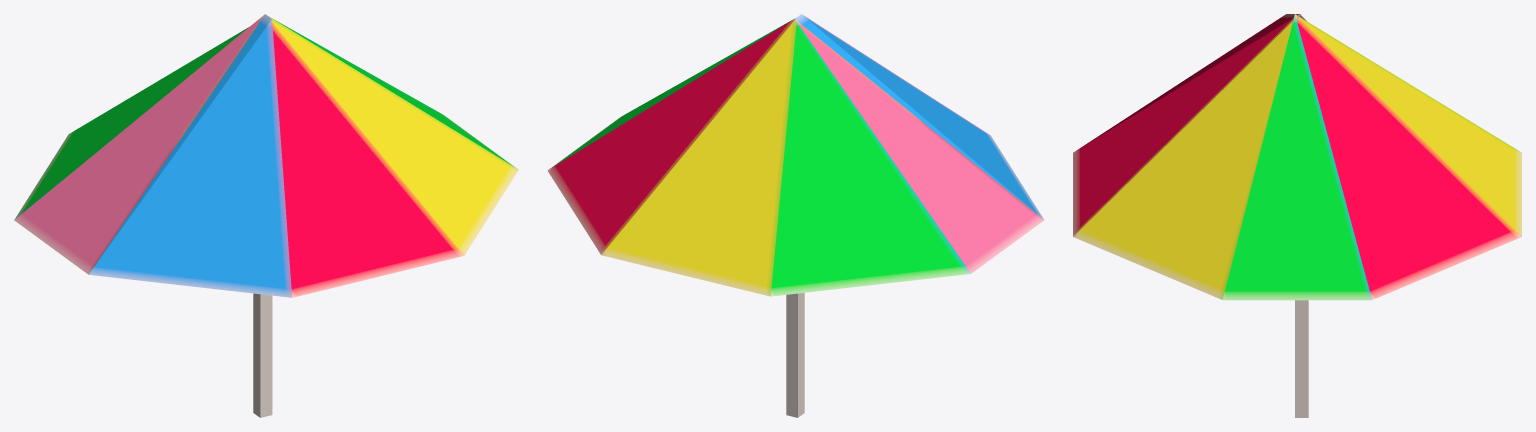
The model's file is sun-shade.gltf.
3 renders of one model, left to right at view 1: azimuth 30°, elevation 25°; view 2: azimuth 150°, elevation 25°; view 3: azimuth 270°, elevation 25°, orthographic.
Size of the model in its own units: 9.07 by 8.06 by 8.16.
Materials: 1 (1 with a texture image).
